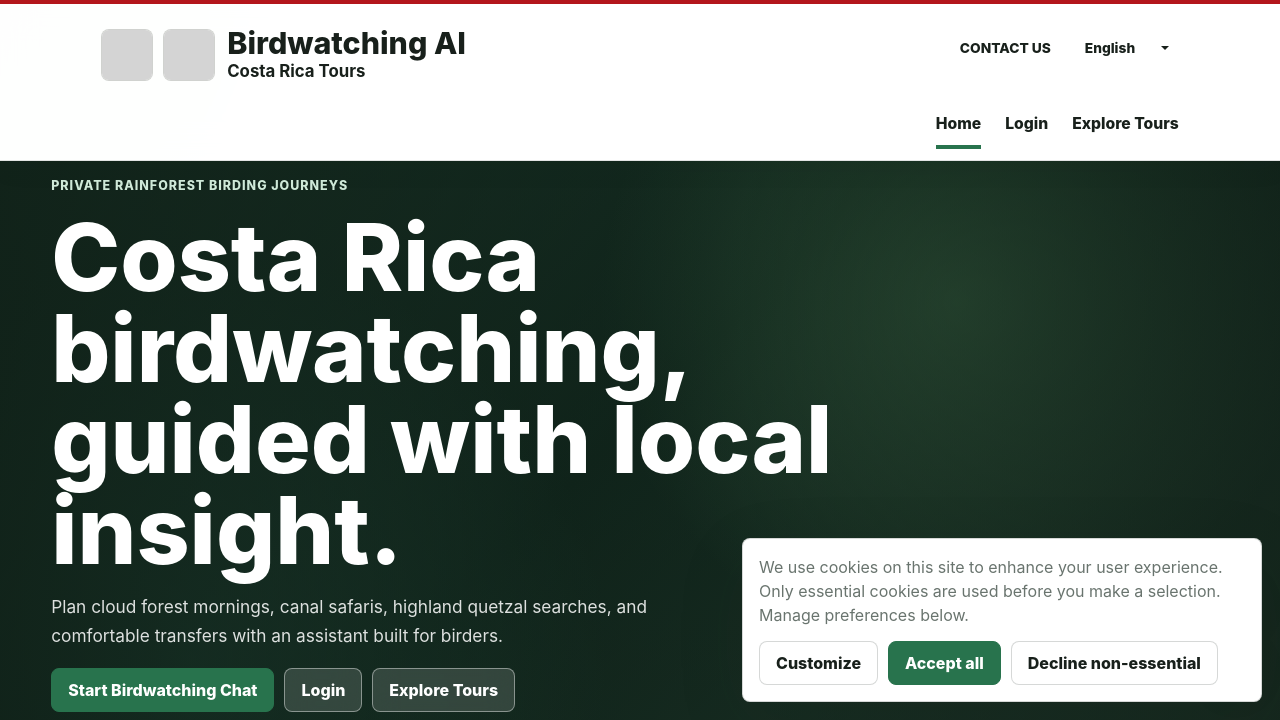
Scenario: App authentication flow › preserves signup switching inside the login modal
Click the button "Login" next to "Home" at (1027, 124), box [1005,100,1048,148]
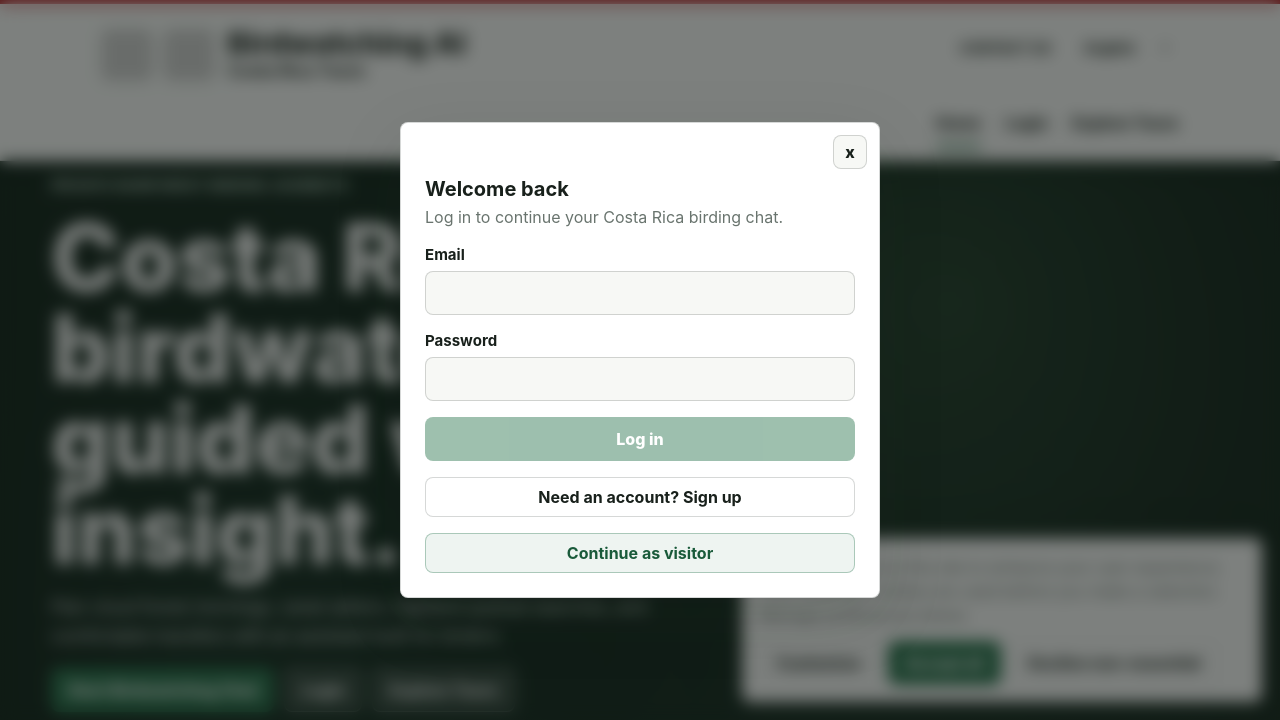
Click the button "Need an account? Sign up" at (640, 497), box [425,477,855,517]
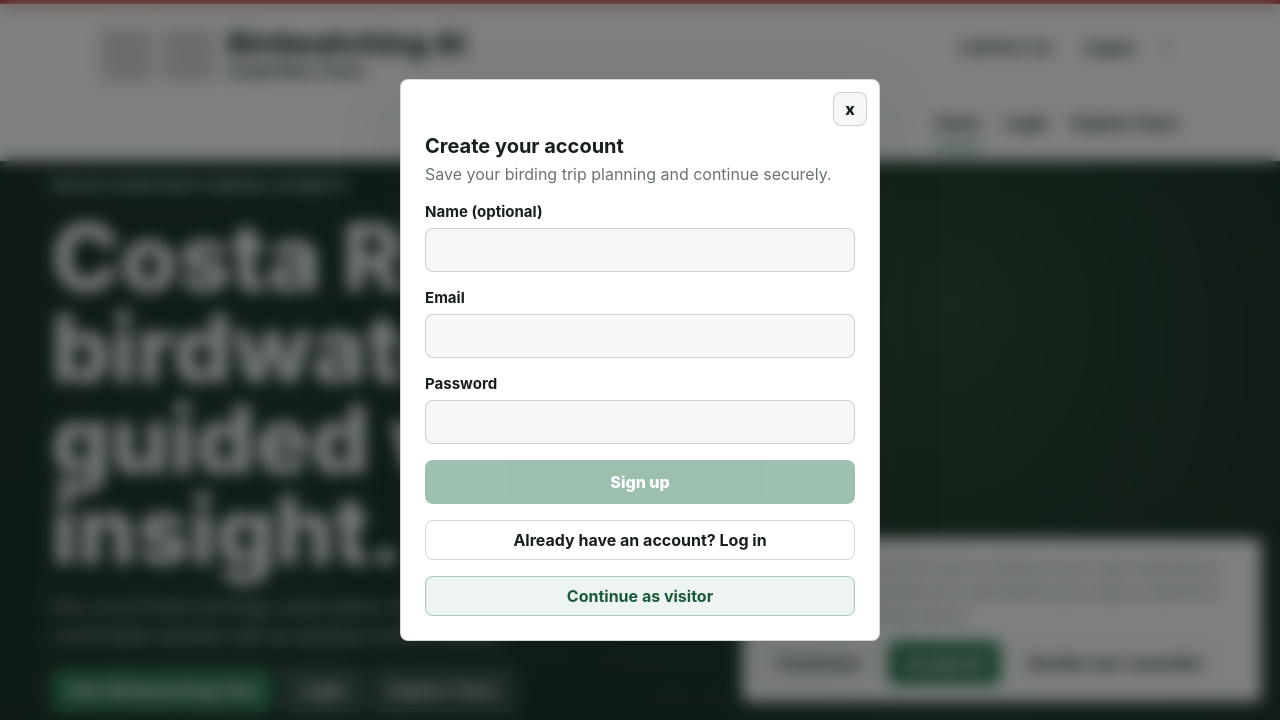
Expected: the dialog "Create your account" is shown, [400,79,880,641]
Expected: the field labelled "Name (optional)" is shown, [425,228,855,272]
